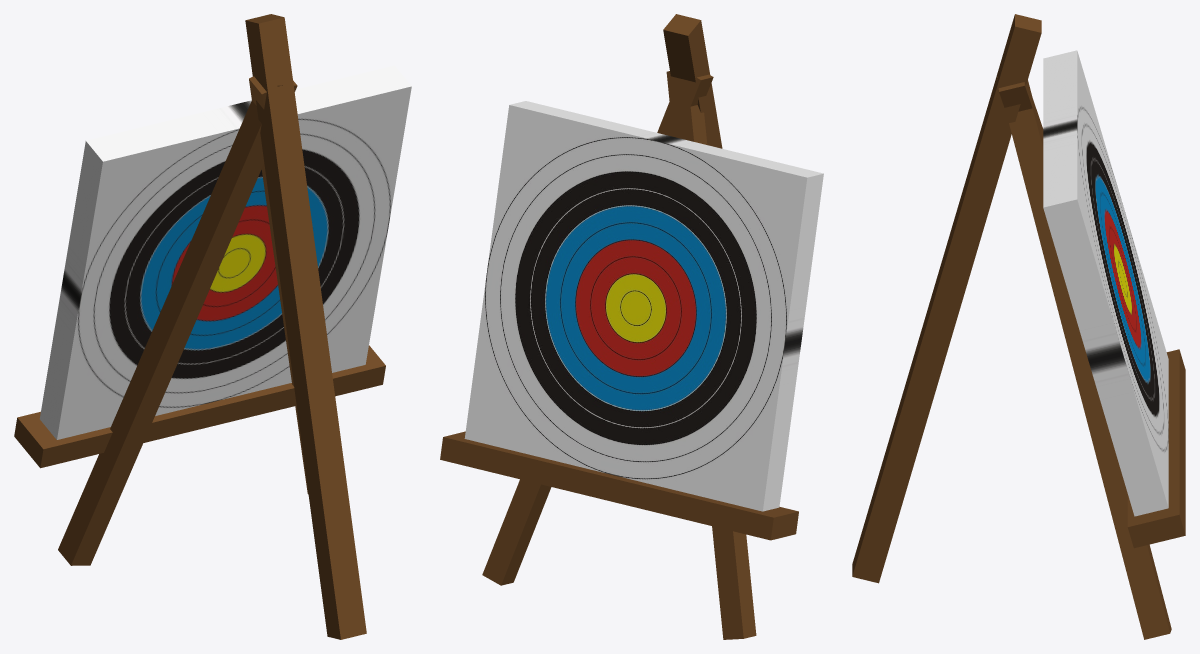
Rendered from target.glb.
3 views of the same model, side by side, from view 1: azimuth 30°, elevation 25°; view 2: azimuth 150°, elevation 25°; view 3: azimuth 270°, elevation 25° (orthographic). The views are drawn at different scales.
Parts seen in each view (by area): view 1: target, frame; view 2: target, frame; view 3: frame, target.
Boxes of the visible parts, x1,y1,x2,y2 form: target: (39,65,411,439); frame: (14,14,385,639); target: (464,101,823,511); frame: (440,14,798,639); frame: (852,14,1185,639); target: (1043,50,1168,516).
Size of the model in its own units: 1.11 by 1.75 by 0.945.
Materials: 2 (1 with a texture image).
